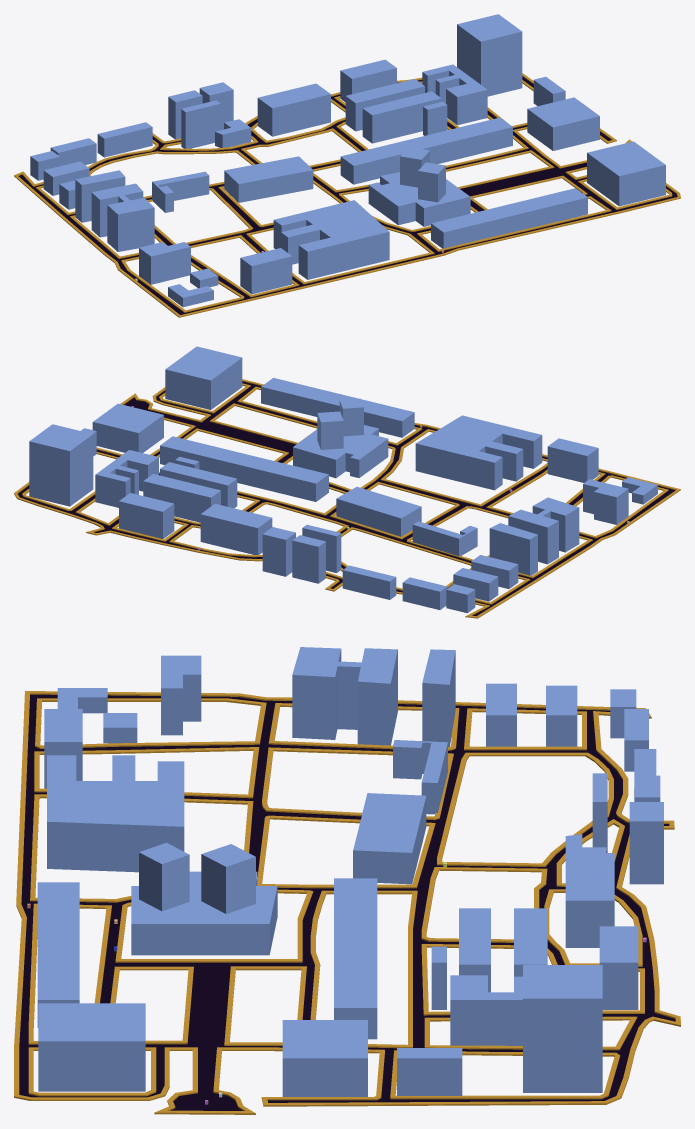
Rendered from sipingchangjing0512.dae.
3 renders of one model, top to bottom at view 1: azimuth 30°, elevation 25°; view 2: azimuth 150°, elevation 25°; view 3: azimuth 270°, elevation 25°, orthographic. The views are drawn at different scales.
Visible parts, largest first — view 1: 拉伸 [8327], 拉伸 [36167], 拉伸 [9061]; view 2: 拉伸 [8327], 拉伸 [36167], 拉伸 [9061]; view 3: 拉伸 [8327], 拉伸 [36167], 拉伸 [9061].
Boxes of the visible parts, x1,y1,x2,y2 form: 拉伸 [8327]: (30,14,665,307); 拉伸 [36167]: (14,73,680,317); 拉伸 [9061]: (18,76,677,314); 拉伸 [8327]: (29,346,657,613); 拉伸 [36167]: (14,379,680,618); 拉伸 [9061]: (18,381,675,616); 拉伸 [8327]: (37,647,663,1096); 拉伸 [36167]: (14,691,680,1114); 拉伸 [9061]: (19,694,675,1110).
Size of the model in its own units: 288 by 192 by 30.
